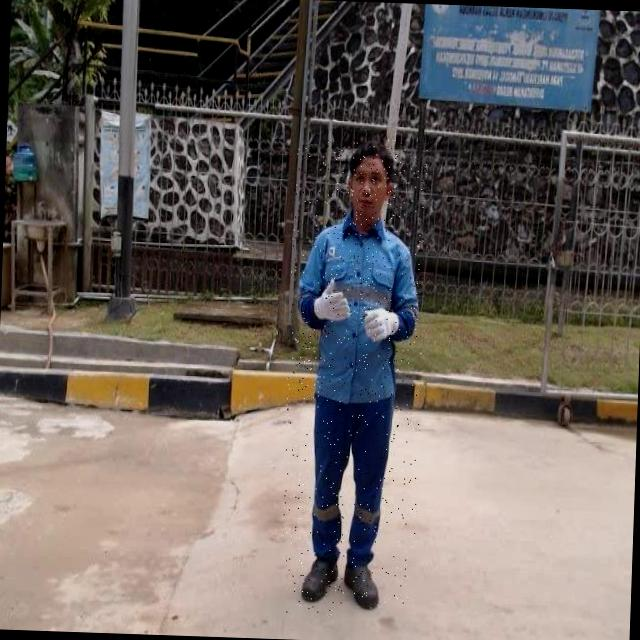boots: (339, 557, 382, 614), (298, 552, 341, 608)
